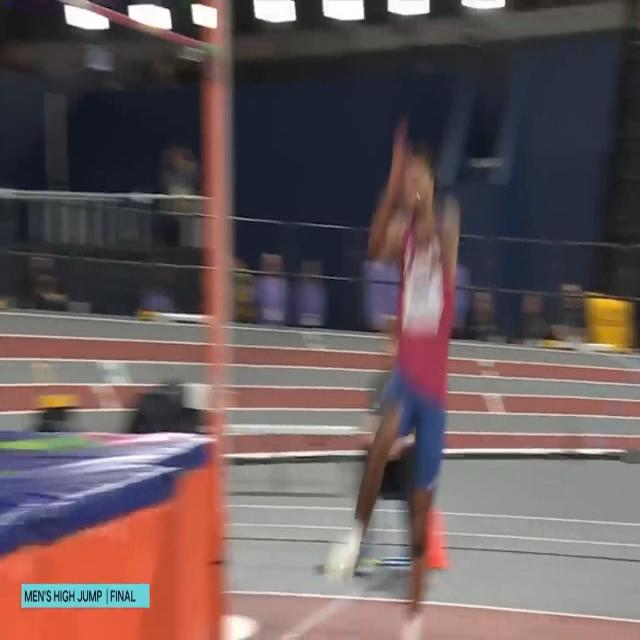jump: (325, 113, 463, 640)
